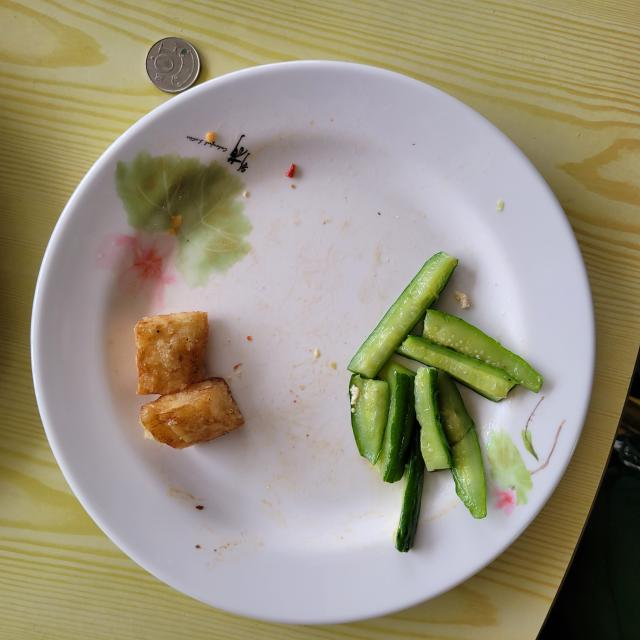coin: (146, 38, 200, 92)
cucumber: (349, 252, 542, 551)
fried potato: (134, 311, 244, 449)
